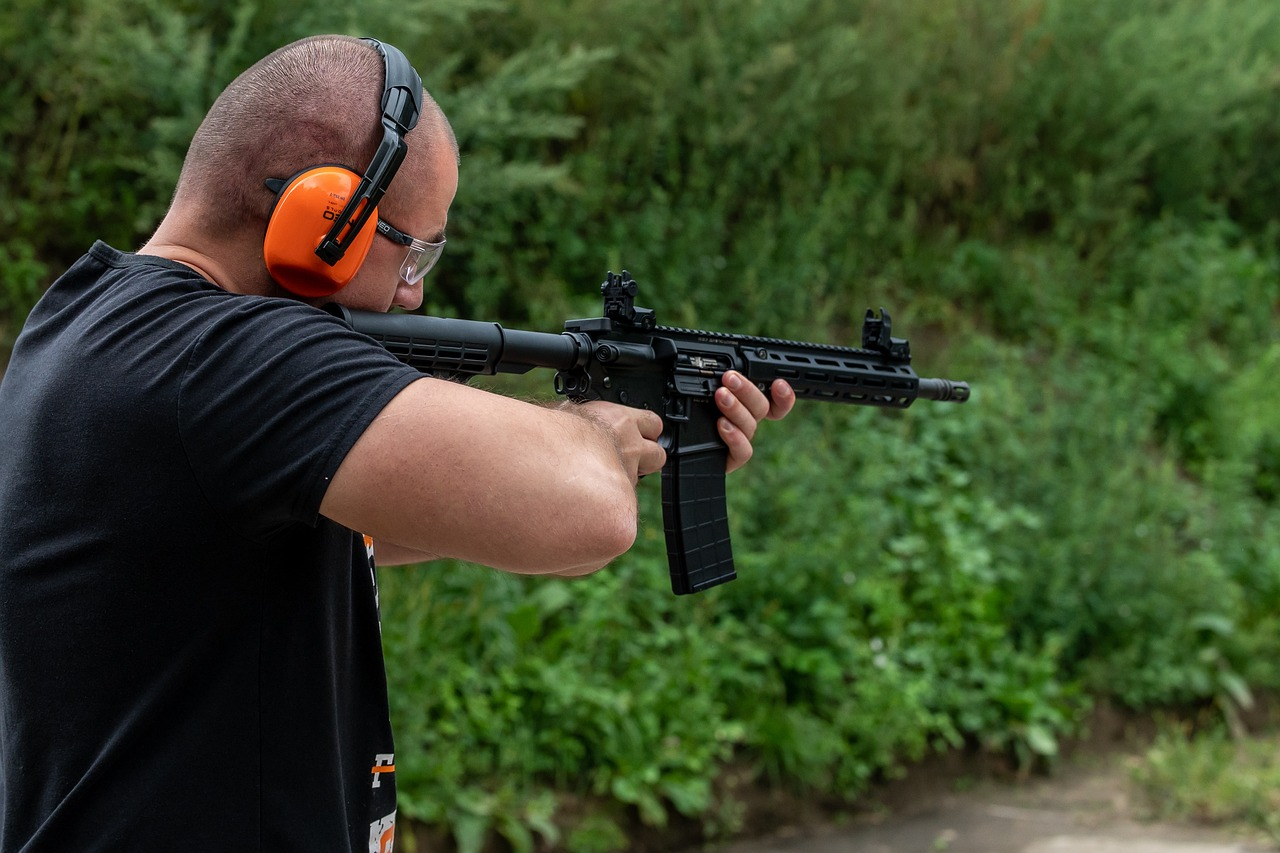gun: (309, 263, 975, 601)
